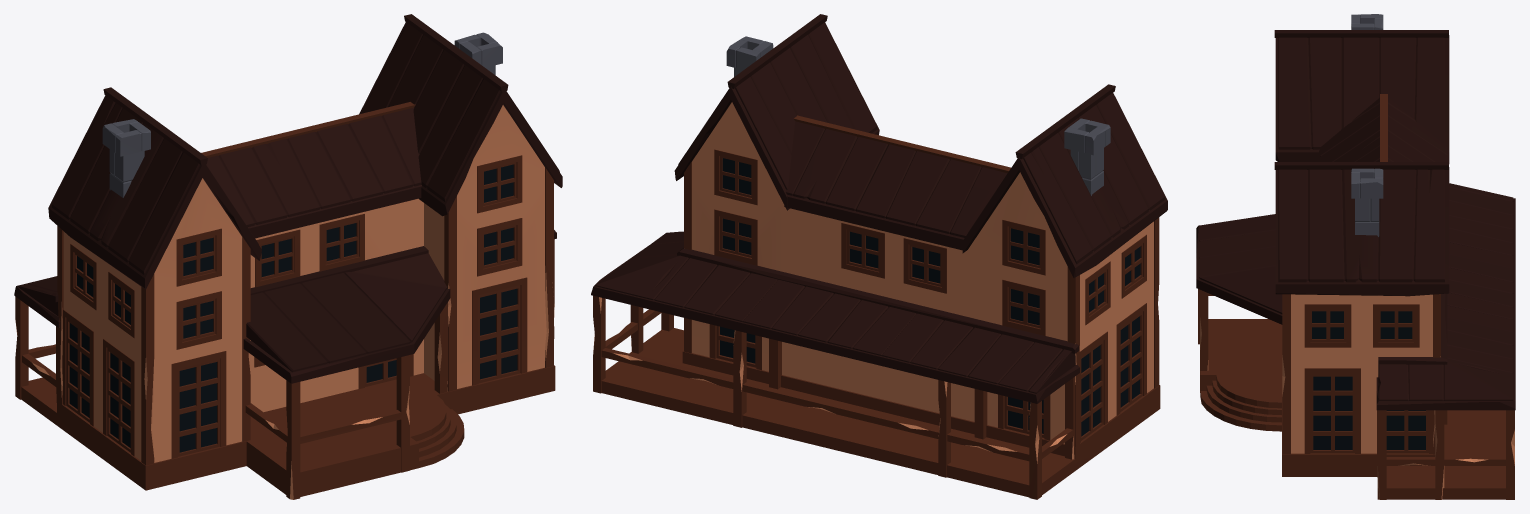
The model's file is House_7.001_1.fbx.
3 views of the same model, side by side, from view 1: azimuth 30°, elevation 25°; view 2: azimuth 150°, elevation 25°; view 3: azimuth 270°, elevation 25° (orthographic). The views are drawn at different scales.
Parts seen in each view (by area): view 1: House_7.001_1; view 2: House_7.001_1; view 3: House_7.001_1.
Boxes of the visible parts, left/top/right/bottom form: House_7.001_1: left=14, top=14, right=562, bottom=499; House_7.001_1: left=591, top=14, right=1167, bottom=499; House_7.001_1: left=1196, top=14, right=1515, bottom=499.
Bounding box in the file's own units: 451 × 296 × 296.
